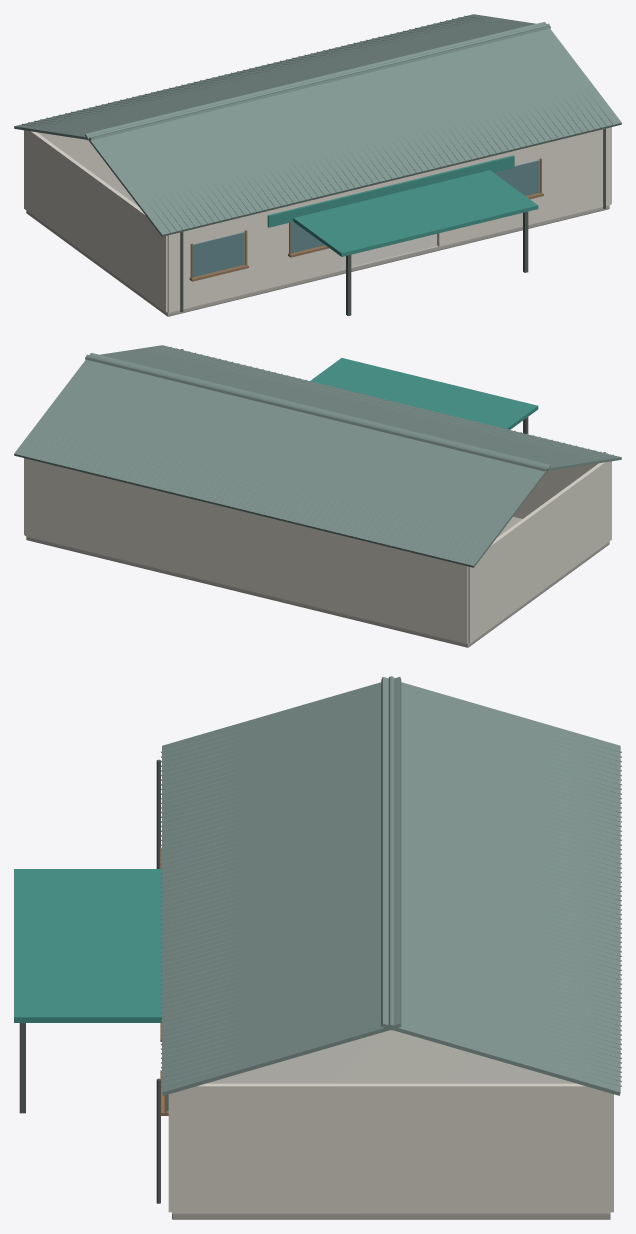
The model's file is hospital.glb.
3 views of the same model, one above another, from view 1: azimuth 30°, elevation 25°; view 2: azimuth 150°, elevation 25°; view 3: azimuth 270°, elevation 25° (orthographic). The views are drawn at different scales.
Visible parts, largest first — view 1: roof, plaster, teal, concrete, glass, steel, wood; view 2: roof, plaster, teal, concrete; view 3: roof, plaster, teal, concrete, steel.
Boxes of the visible parts, <box> form: roof: <box>14,14,621,236</box>; plaster: <box>24,127,611,312</box>; teal: <box>267,155,538,256</box>; concrete: <box>26,185,609,316</box>; glass: <box>193,160,539,277</box>; steel: <box>180,128,605,315</box>; wood: <box>189,158,543,281</box>; roof: <box>14,345,621,567</box>; plaster: <box>24,458,611,643</box>; teal: <box>310,358,538,429</box>; concrete: <box>26,516,609,647</box>; roof: <box>160,676,621,1095</box>; plaster: <box>168,1083,613,1213</box>; teal: <box>14,869,161,1022</box>; concrete: <box>172,1030,610,1219</box>; steel: <box>19,759,160,1203</box>.
Bounding box in the file's own units: 18.8 × 5.11 × 13.86.
